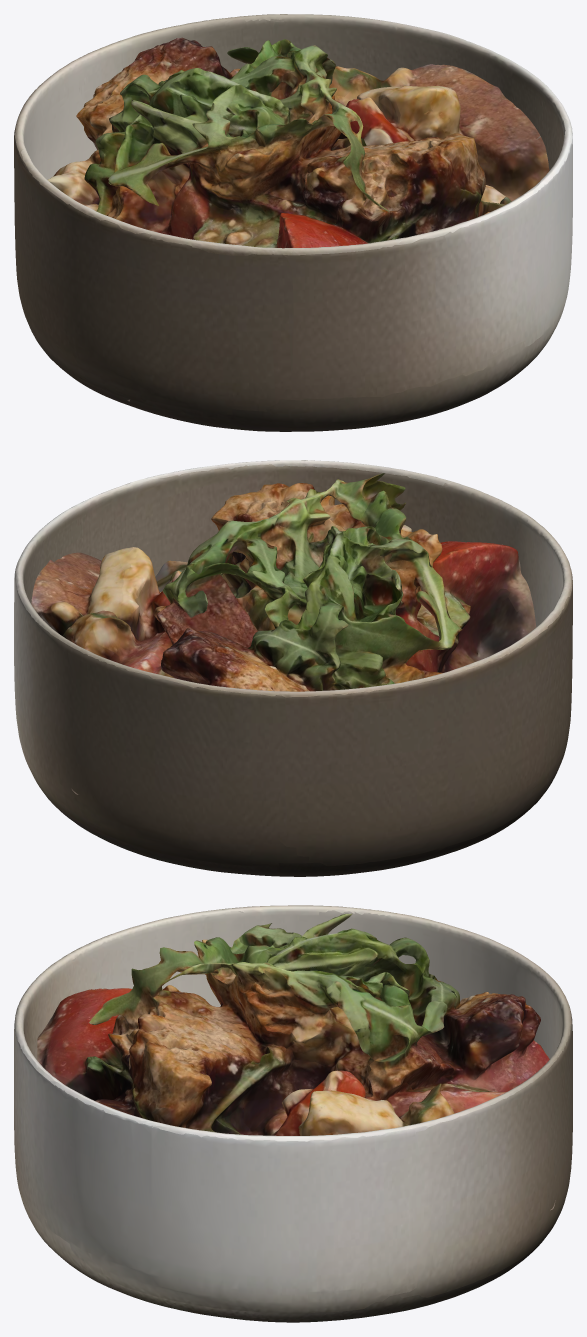
Rendered from rustic.classic.glb.
3 views of the same model, one above another, from view 1: azimuth 30°, elevation 25°; view 2: azimuth 150°, elevation 25°; view 3: azimuth 270°, elevation 25° (orthographic).
Parts seen in each view (by area): view 1: /Root/Scenes/Scene/Object_53/Object_57/Object_58/Submesh_0, /Root/Scenes/Scene/Object_53/Object_54/Submesh_0; view 2: /Root/Scenes/Scene/Object_53/Object_57/Object_58/Submesh_0, /Root/Scenes/Scene/Object_53/Object_54/Submesh_0; view 3: /Root/Scenes/Scene/Object_53/Object_57/Object_58/Submesh_0, /Root/Scenes/Scene/Object_53/Object_54/Submesh_0.
Part boxes in pixels (x1,y1,x2,y2): /Root/Scenes/Scene/Object_53/Object_57/Object_58/Submesh_0: [14, 14, 572, 431]; /Root/Scenes/Scene/Object_53/Object_54/Submesh_0: [47, 37, 549, 401]; /Root/Scenes/Scene/Object_53/Object_57/Object_58/Submesh_0: [14, 460, 572, 876]; /Root/Scenes/Scene/Object_53/Object_54/Submesh_0: [31, 473, 536, 794]; /Root/Scenes/Scene/Object_53/Object_57/Object_58/Submesh_0: [14, 905, 572, 1322]; /Root/Scenes/Scene/Object_53/Object_54/Submesh_0: [37, 913, 555, 1210].
Size of the model in its own units: 0.1689 by 0.0889 by 0.1687.
Materials: 2 (2 with a texture image).
